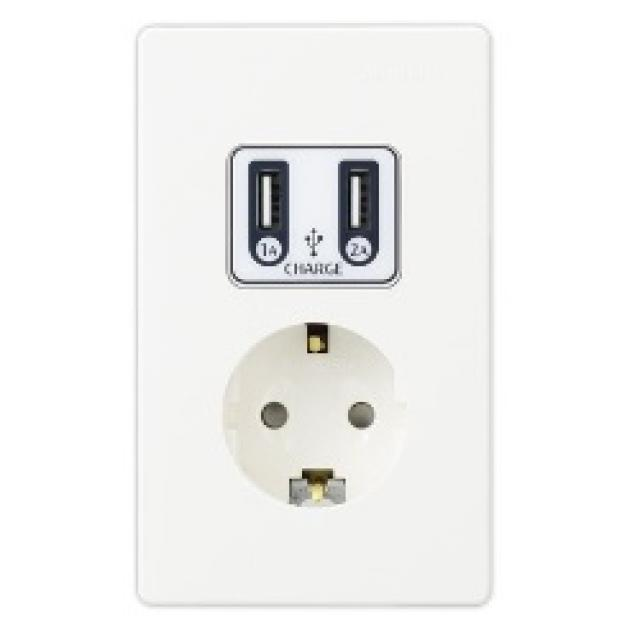typeb: (108, 9, 535, 626)
